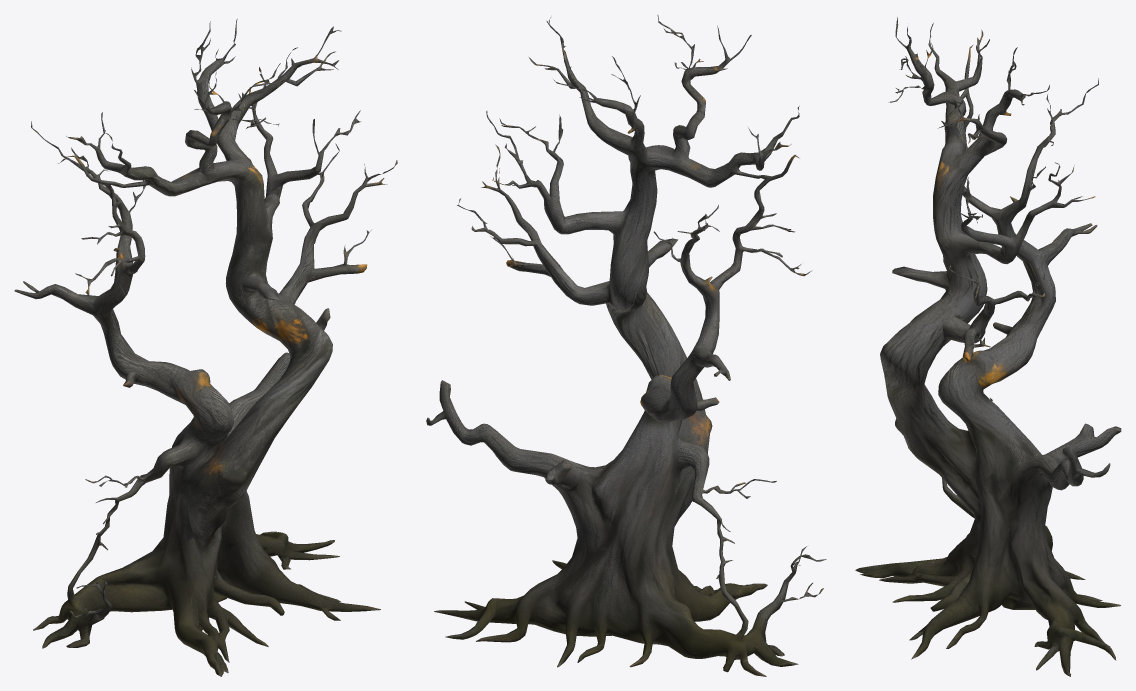
File: tree_bare.glb
3 views of the same model, side by side, from view 1: azimuth 30°, elevation 25°; view 2: azimuth 150°, elevation 25°; view 3: azimuth 270°, elevation 25° (orthographic). The views are drawn at different scales.
Visible parts, largest first — view 1: tree_bare; view 2: tree_bare; view 3: tree_bare.
Boxes of the visible parts, x1,y1,x2,y2 form: tree_bare: [14, 19, 397, 676]; tree_bare: [426, 14, 826, 676]; tree_bare: [855, 17, 1121, 676].
Size of the model in its own units: 115 by 191 by 82.11.
Materials: 1 (1 with a texture image).
